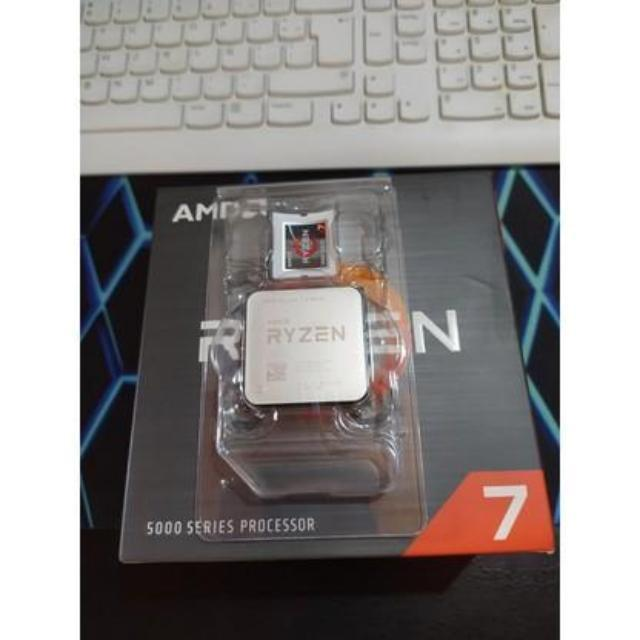CPU: (244, 287, 370, 405)
